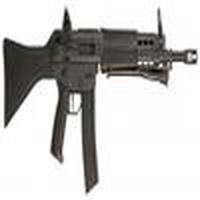gun: (2, 7, 199, 154)
